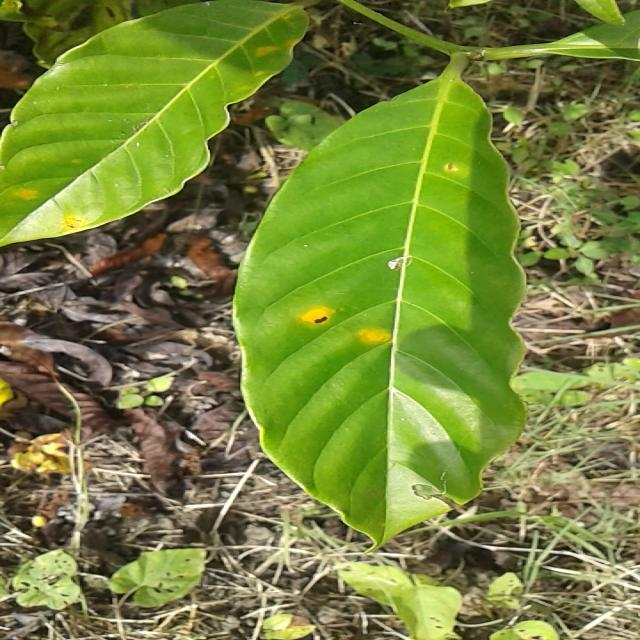Enfermedad-Roya: (241, 61, 527, 546)
